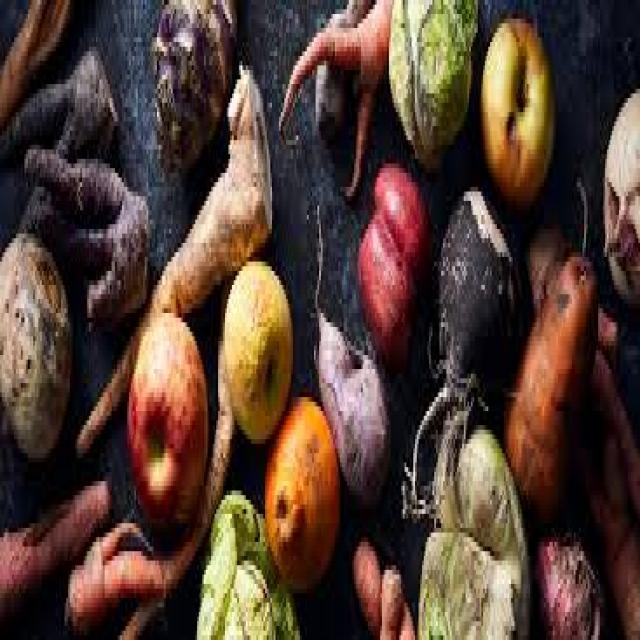food_waste: (301, 57, 624, 608), (20, 81, 256, 609)
